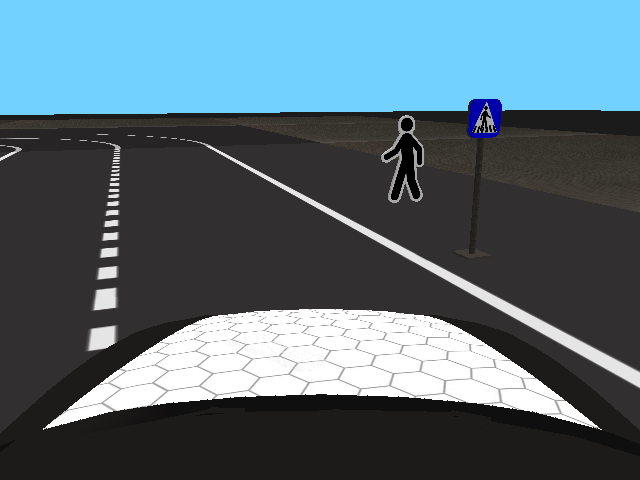pedestrian: (382, 113, 426, 203)
